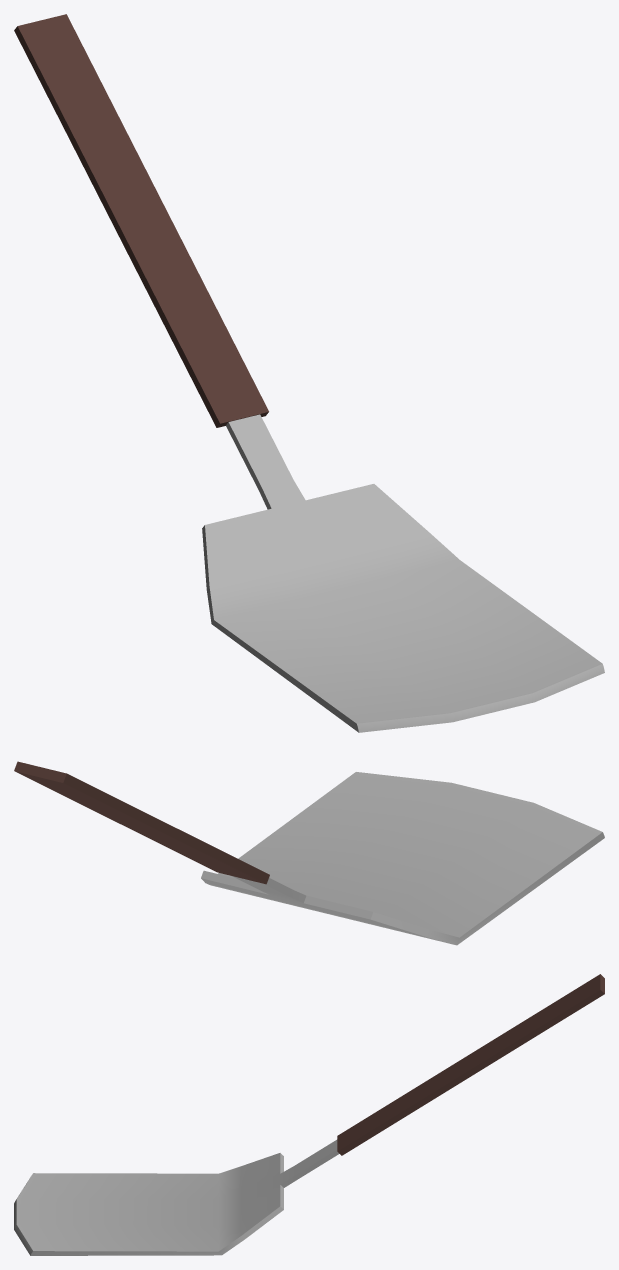
File: Spatel.fbx
The picture shows the model from 3 angles, top to bottom: view 1: azimuth 30°, elevation 25°; view 2: azimuth 150°, elevation 25°; view 3: azimuth 270°, elevation 25°; orthographic projection. The views are drawn at different scales.
Visible parts, largest first — view 1: Cube; view 2: Cube; view 3: Cube.
Part boxes in pixels (x1,y1,x2,y2): Cube: (14, 14, 604, 732); Cube: (14, 761, 604, 945); Cube: (14, 974, 604, 1255).
Bounding box in the file's own units: 0.0795 × 0.1117 × 0.2547.
